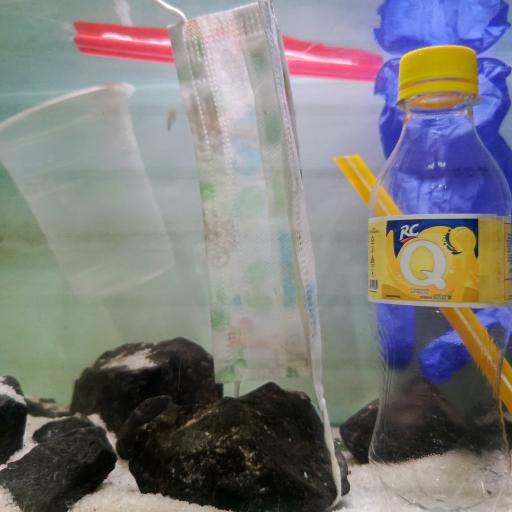bottle_cap: (398, 46, 480, 85)
glove: (382, 49, 512, 374)
mask: (172, 0, 323, 399)
plastic_bottle: (365, 45, 512, 512)
plastic_cup: (4, 80, 176, 302)
plastic_straw: (339, 154, 512, 416), (73, 29, 380, 83)
